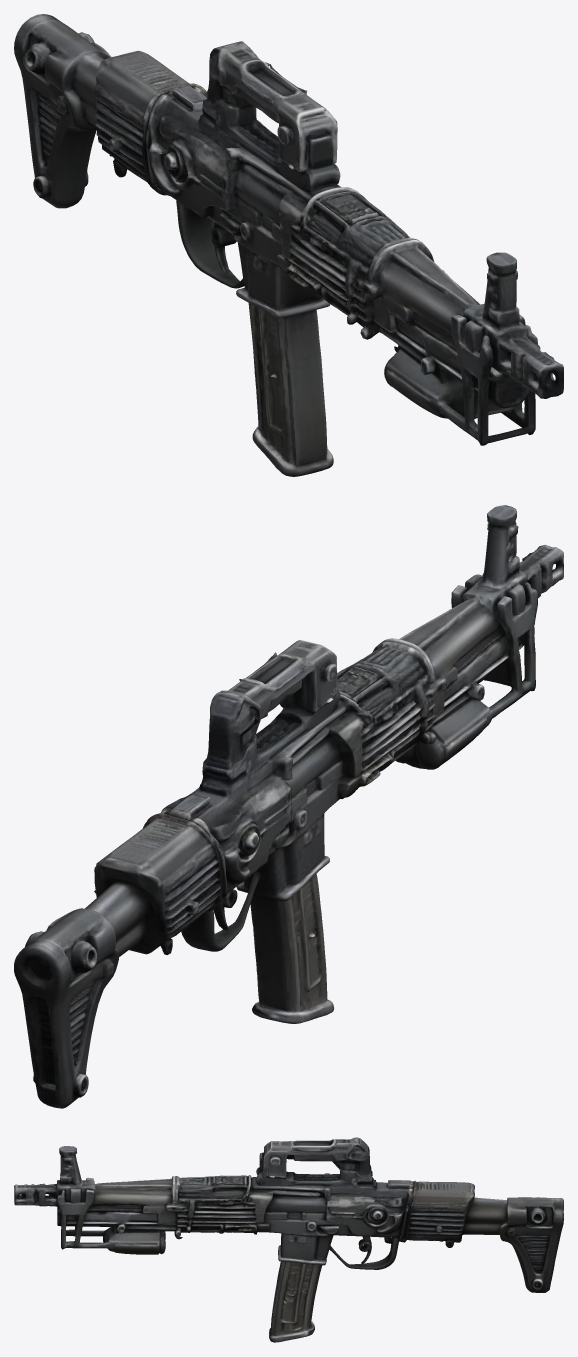
File: arma_grande_porte.glb
3 views of the same model, one above another, from view 1: azimuth 30°, elevation 25°; view 2: azimuth 150°, elevation 25°; view 3: azimuth 270°, elevation 25° (orthographic). The views are drawn at different scales.
Visible parts, largest first — view 1: tripo_node_4a36b167-b7ab-4964-9137-e803f51e5476; view 2: tripo_node_4a36b167-b7ab-4964-9137-e803f51e5476; view 3: tripo_node_4a36b167-b7ab-4964-9137-e803f51e5476.
Part boxes in pixels (box(x1,y1,x2,y2)): tripo_node_4a36b167-b7ab-4964-9137-e803f51e5476: box(14, 14, 563, 476); tripo_node_4a36b167-b7ab-4964-9137-e803f51e5476: box(14, 505, 563, 1108); tripo_node_4a36b167-b7ab-4964-9137-e803f51e5476: box(14, 1137, 563, 1342).
Size of the model in its own units: 0.1101 by 0.4343 by 1.1.
1 material, 1 textured.
